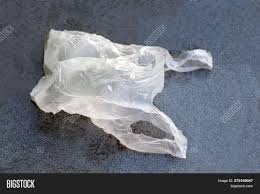plastic: (27, 21, 216, 163)
